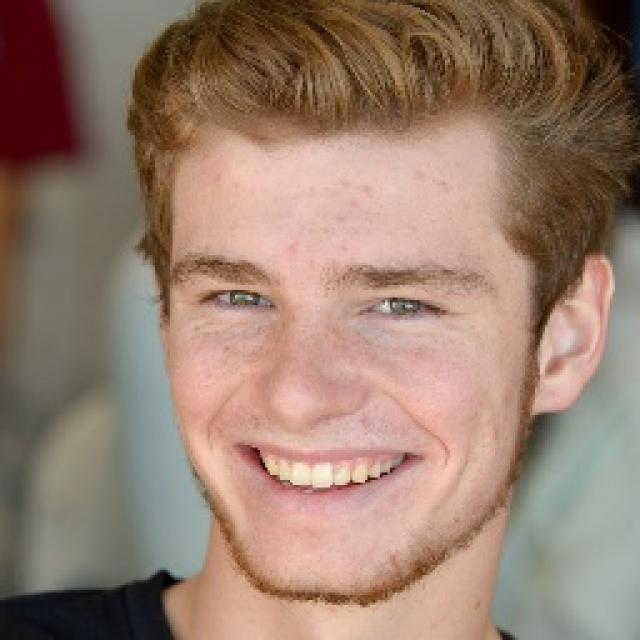earlobe: (532, 371, 576, 418)
eye: (348, 293, 448, 327), (205, 278, 276, 320)
nose: (259, 406, 354, 441)
wholeear: (532, 249, 614, 418)
